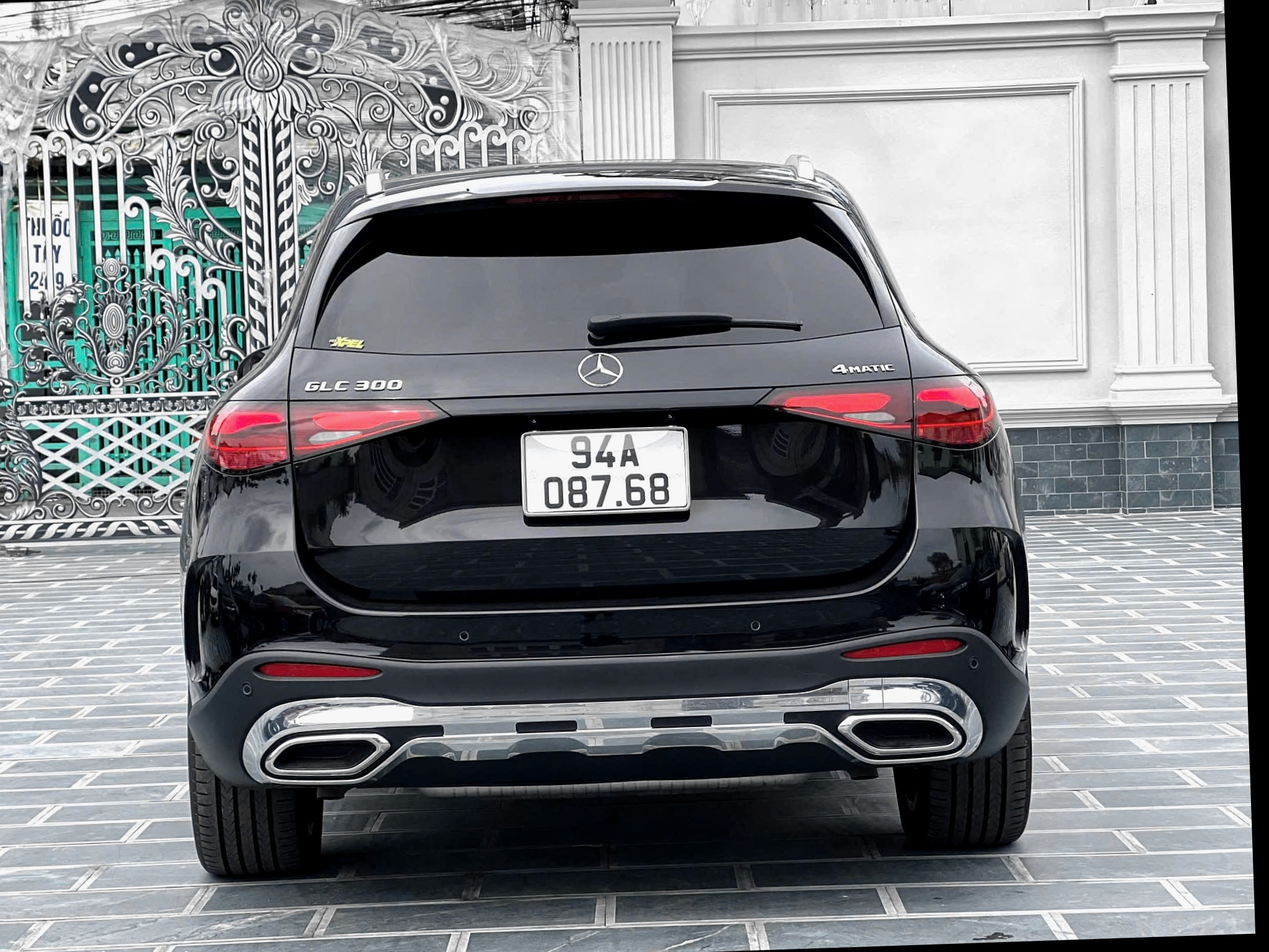Bien-so: (584, 424, 755, 541)
